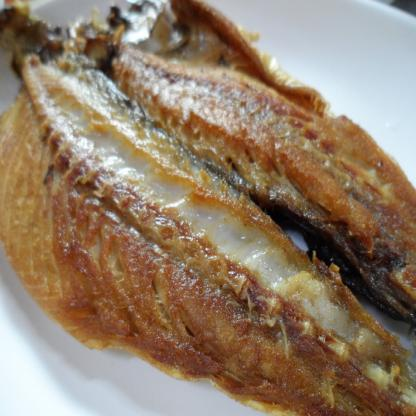Peixe: (0, 0, 406, 416)
